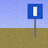sign: (28, 4, 43, 37)
